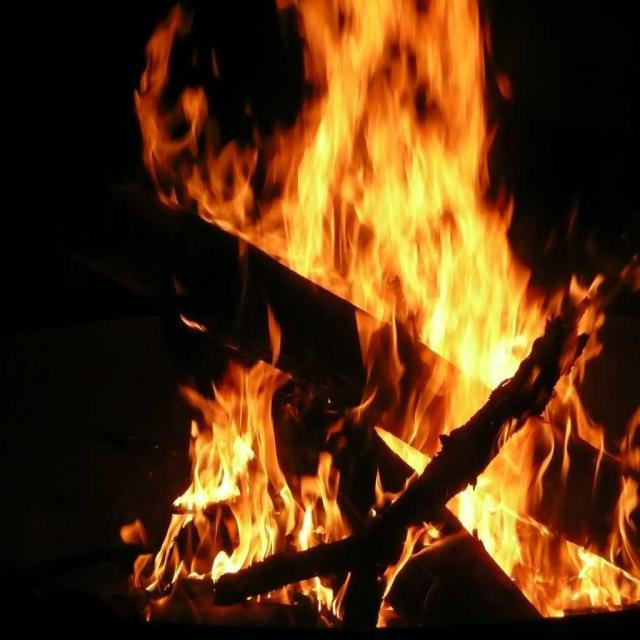Fire: (114, 2, 632, 626)
